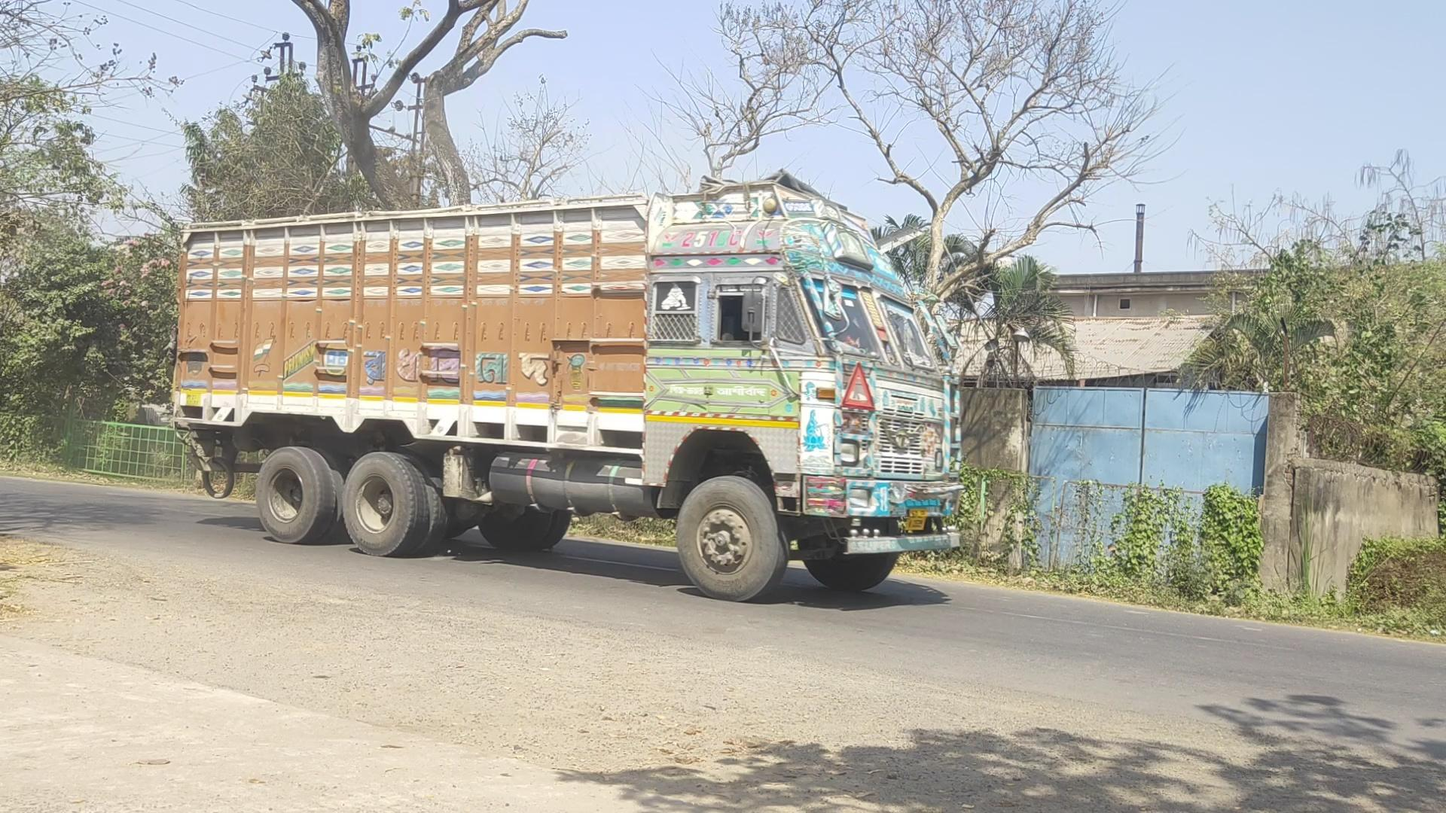truck: (170, 169, 962, 607)
